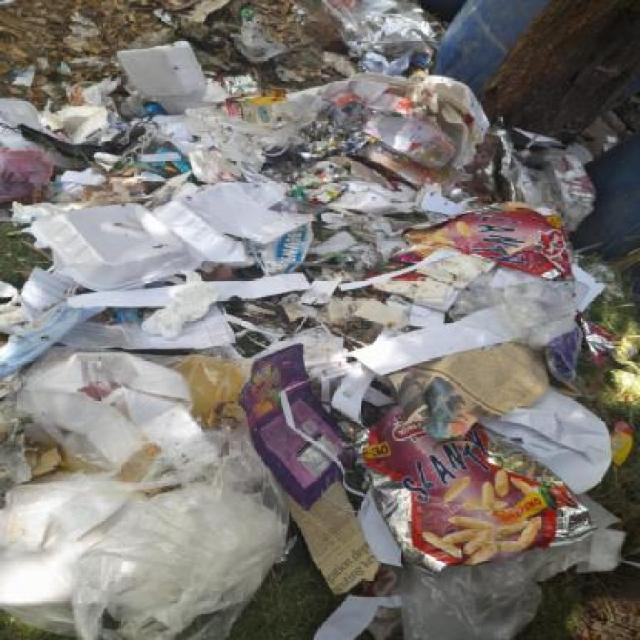garbage: (0, 2, 637, 636)
